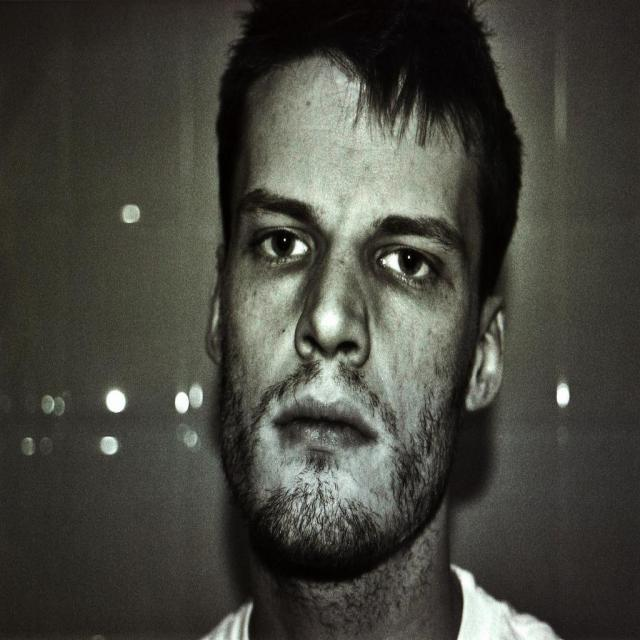no-glass: (253, 227, 437, 286)
